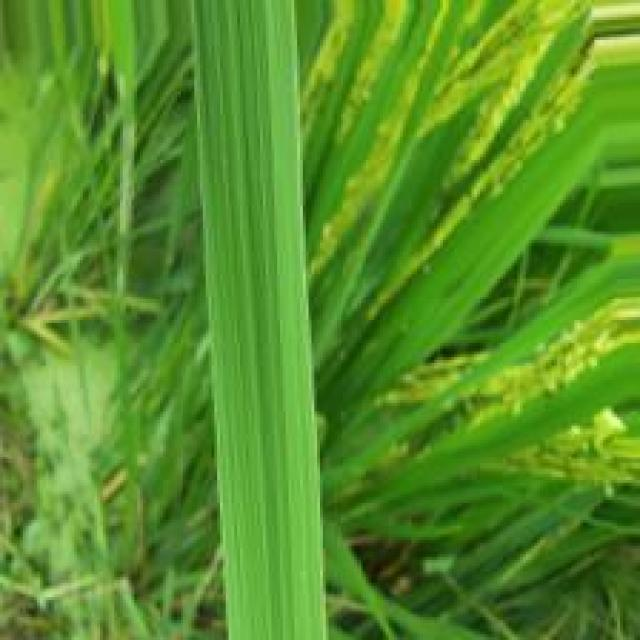HealthyLeaf: (190, 2, 326, 636)
